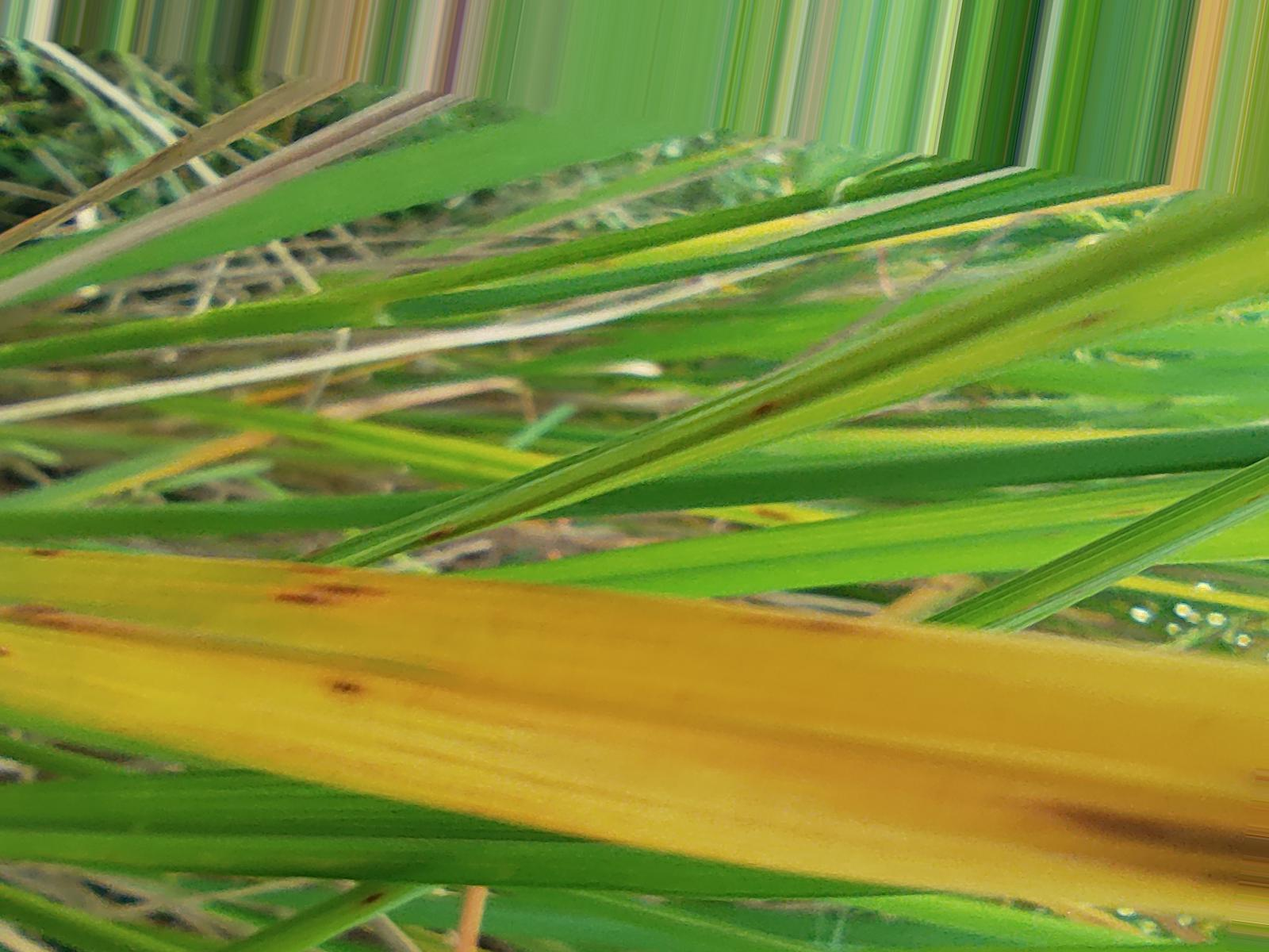NBS: (1032, 796, 1244, 860), (734, 615, 878, 641), (316, 583, 385, 595), (276, 591, 320, 603), (326, 683, 364, 694), (32, 549, 60, 557)
